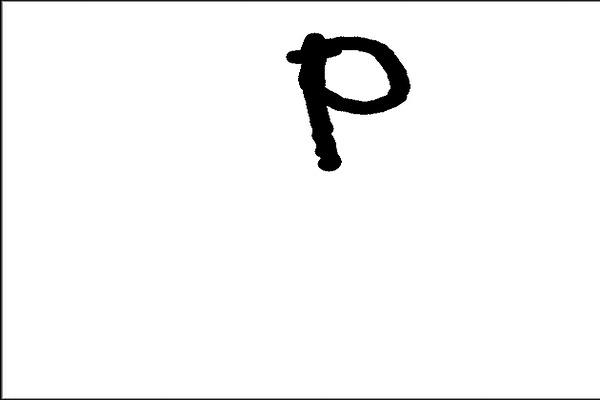P: (281, 21, 416, 186)
